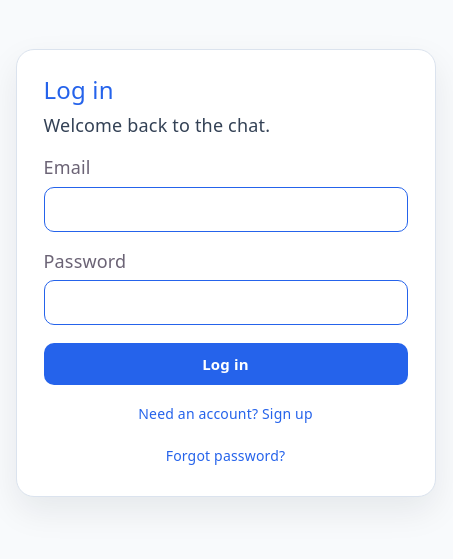
Test: LoginScreen › renders field-level validation messages from a 400
The width and height of the screenshot is (453, 559).
Step 1. Type "alex@example.com" into the field labelled "Email" → point(226, 209), box [44,187,408,232]
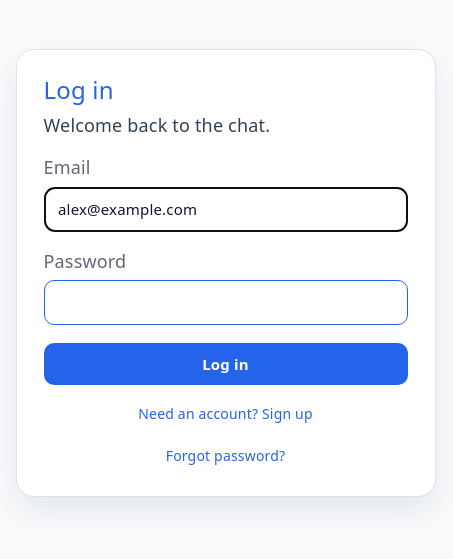
Step 2. Type "short" into the password field labelled "Password" → point(226, 303), box [44,280,408,325]
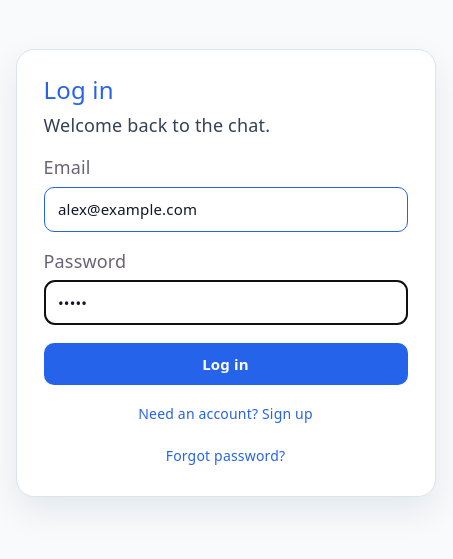
Step 3. Click the button "Log in" → point(226, 364), box [44,343,408,385]
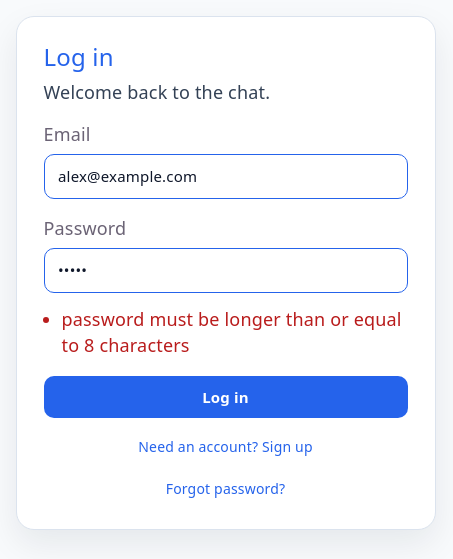
Check: the message reads "password must be longer than or equal to 8 characters", box [62,307,402,357]
